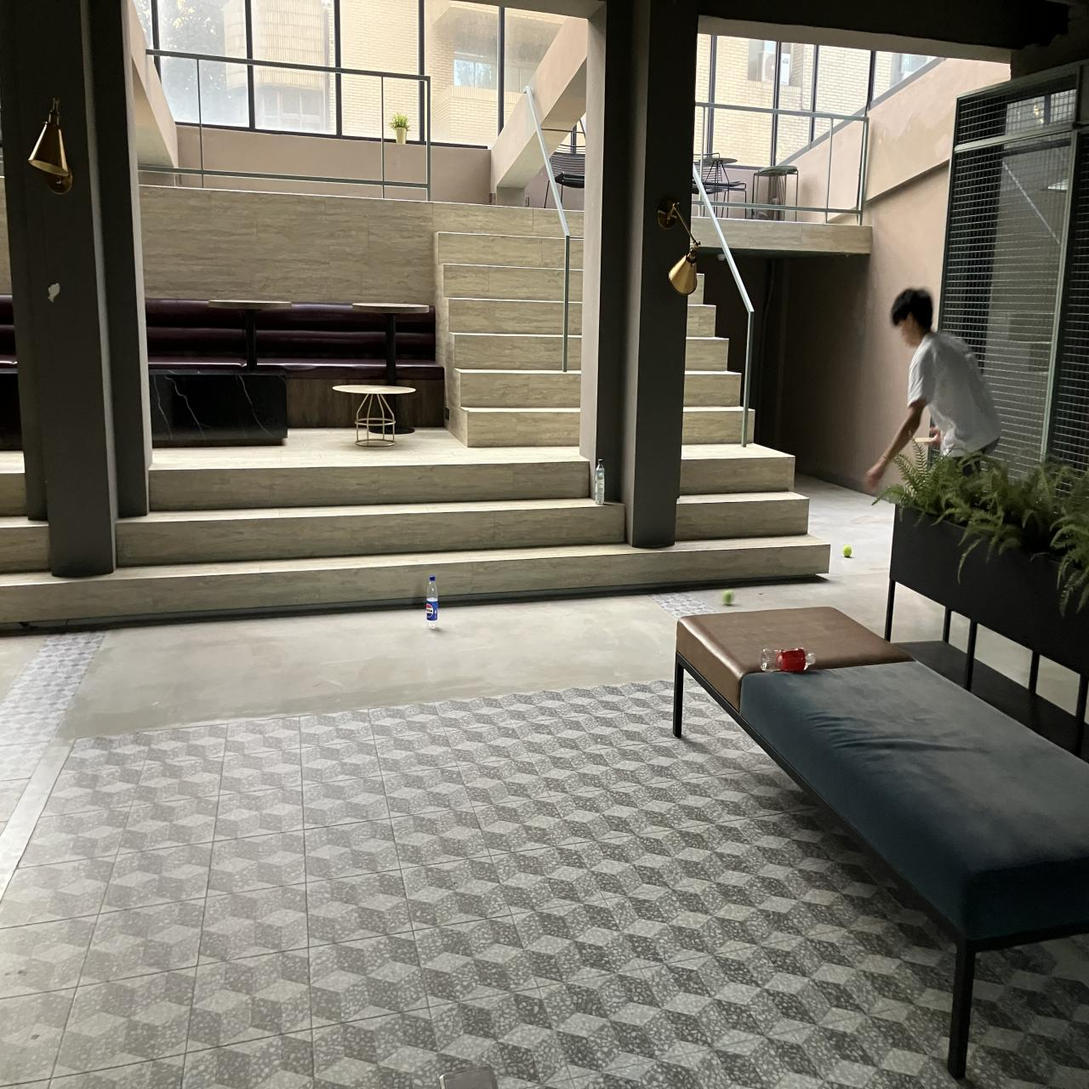person: (864, 289, 1001, 493)
plastic-bottle: (426, 576, 438, 629), (594, 459, 605, 505)
tennisball: (722, 590, 734, 605), (843, 544, 852, 557)
